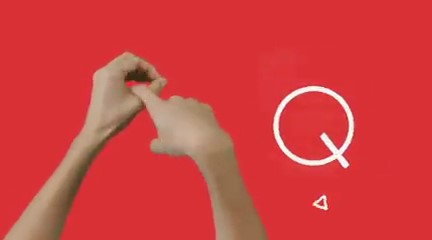Q: (80, 42, 239, 171)
